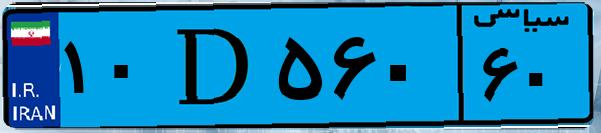0: (385, 28, 445, 110), (525, 38, 570, 115), (110, 28, 158, 98)
1: (57, 26, 110, 100)
5: (270, 28, 330, 110)
6: (330, 28, 385, 110), (475, 38, 525, 113)
D: (158, 12, 270, 120)
